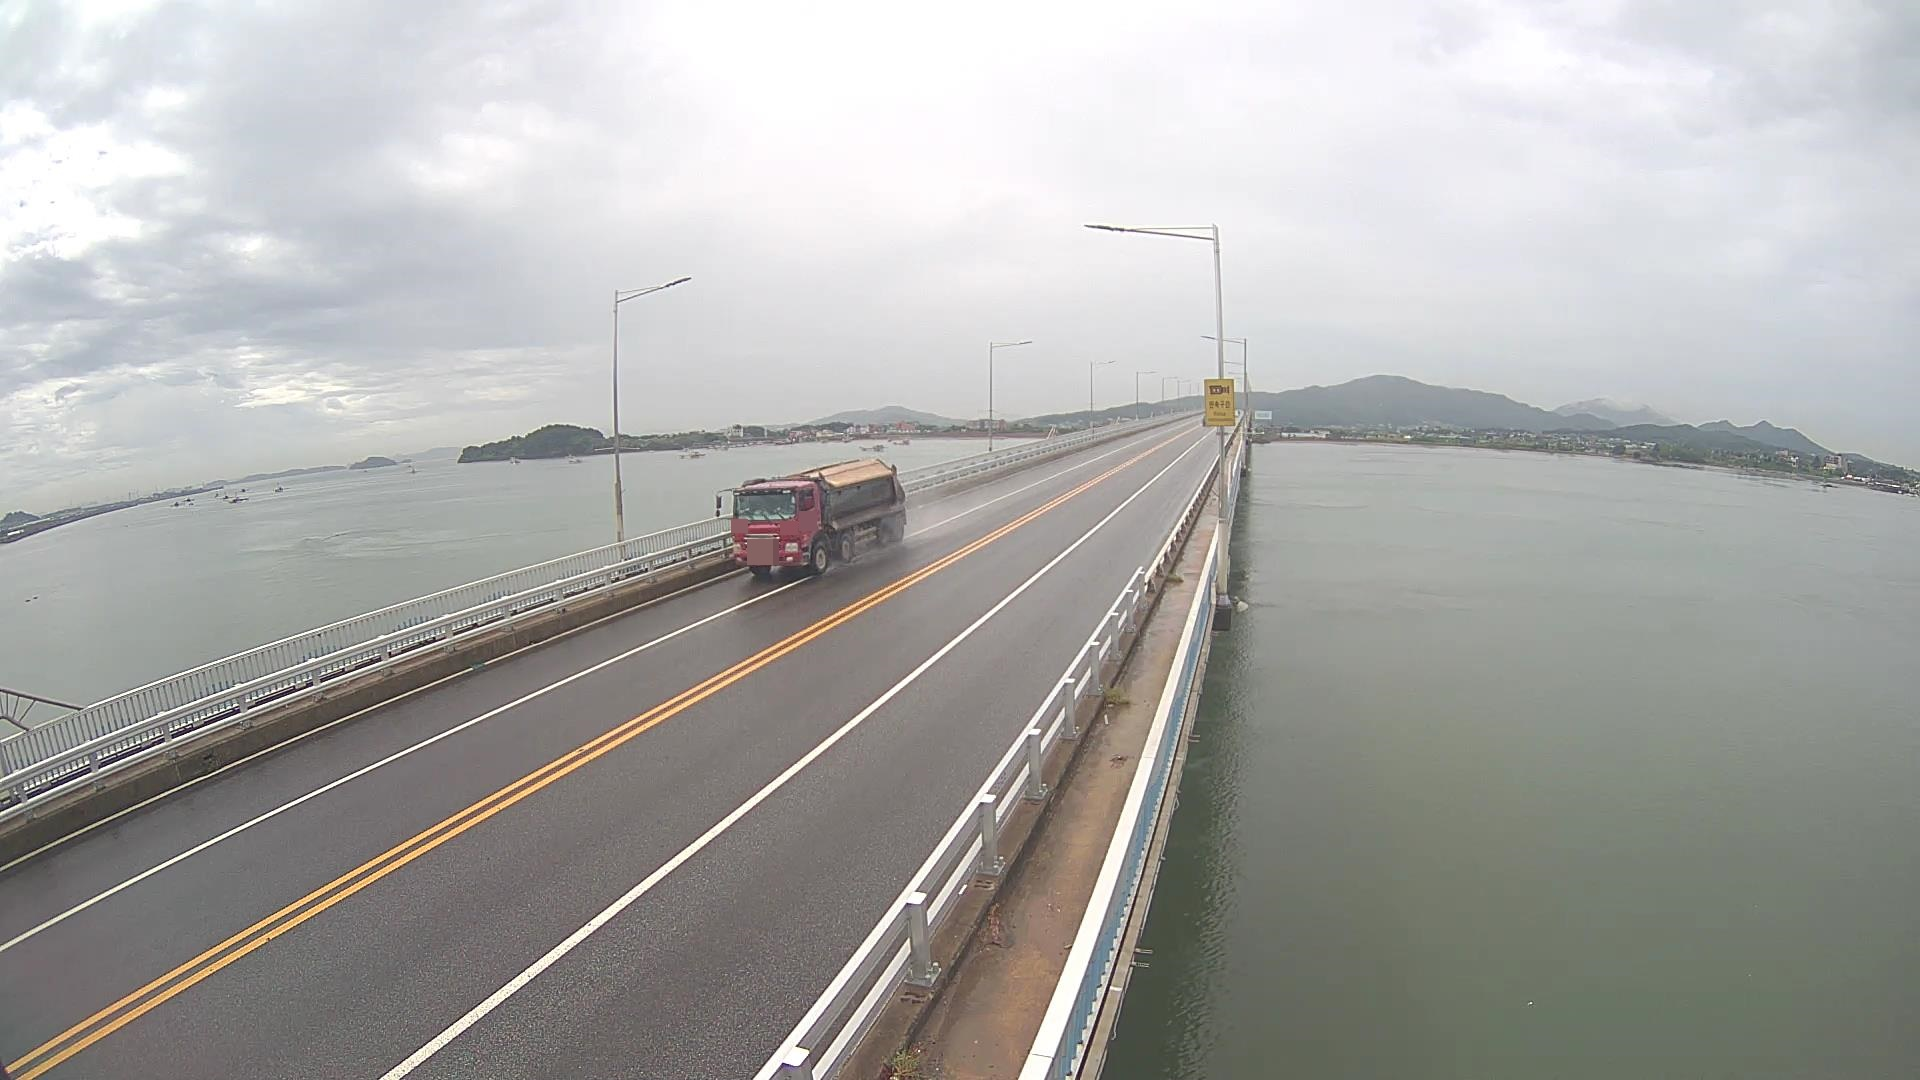정상차량: (716, 456, 907, 578)
